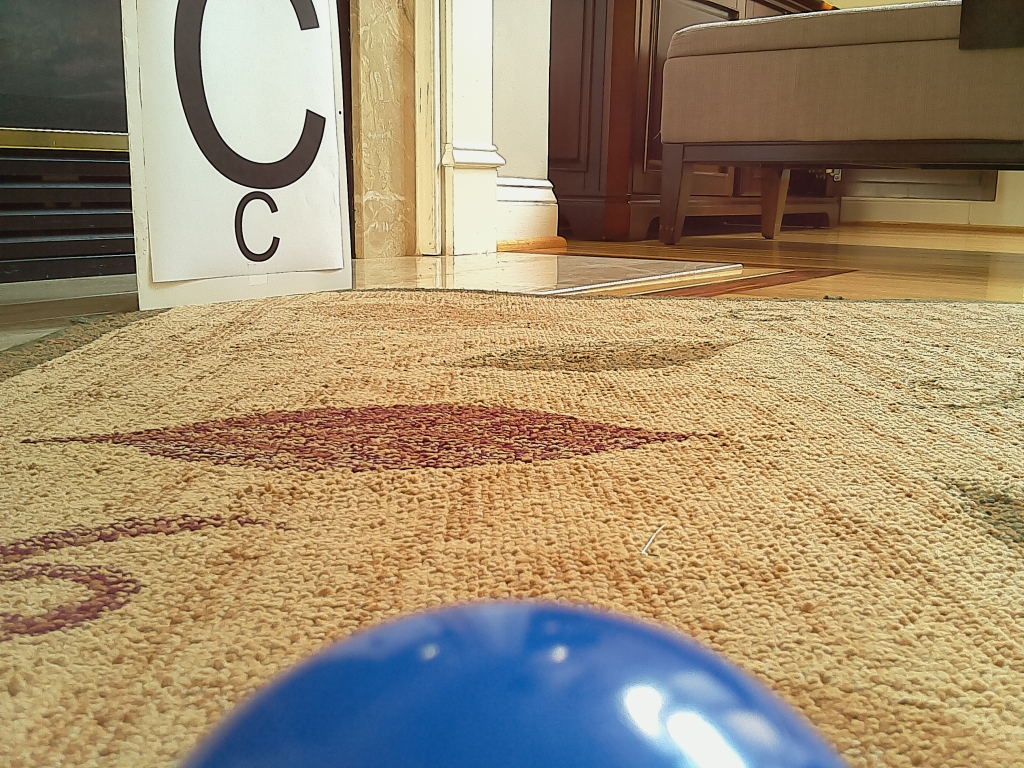letter: (175, 1, 320, 191)
